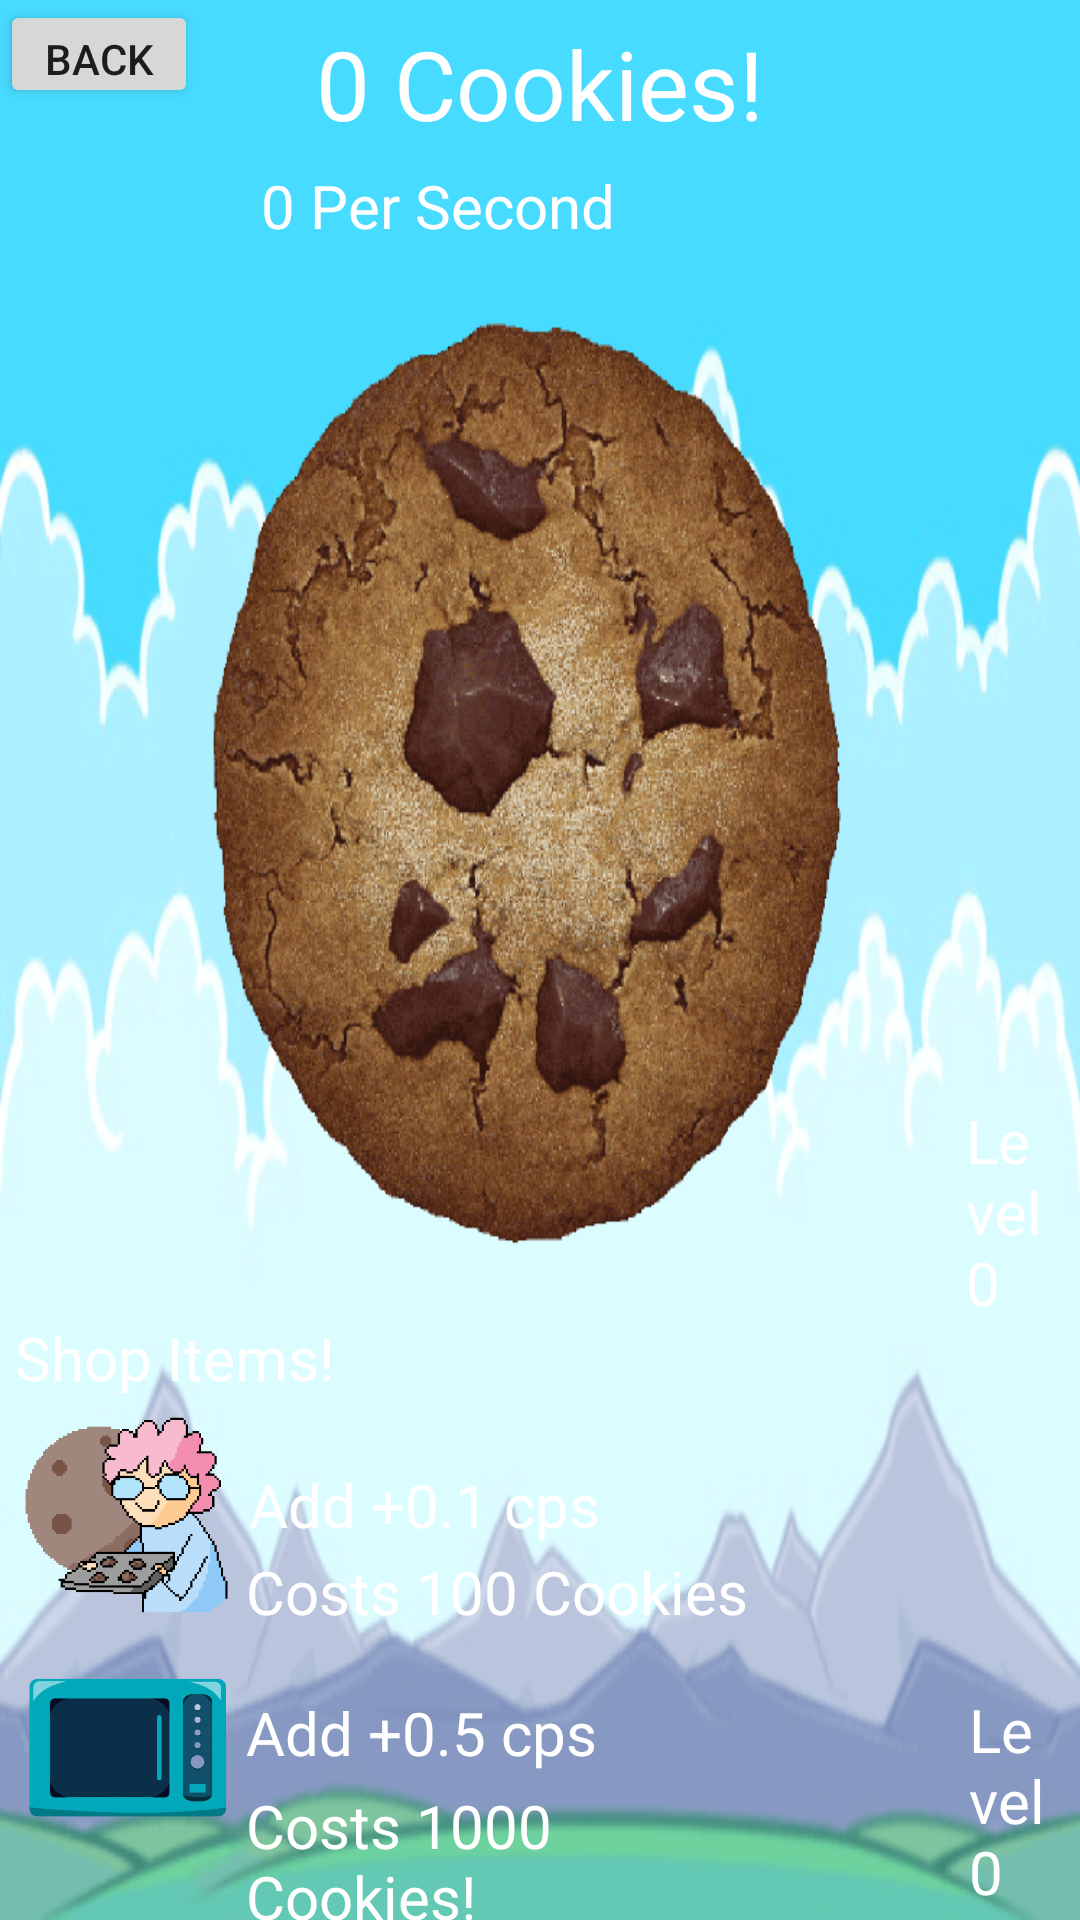

Screen size 1080 × 1920. Icon name, then its center in pixels as (x=x, y=y):
grandma: (x=127, y=1519)
